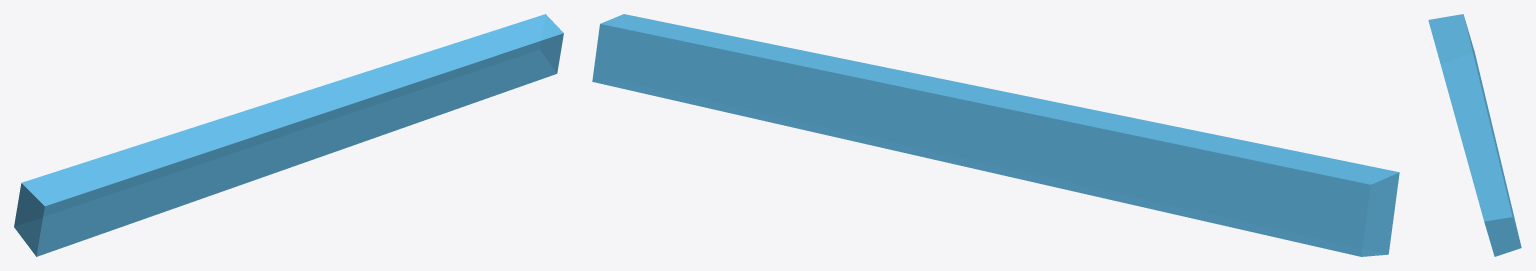
Rendered from Event_421127236_HErechit_5.fbx.
The picture shows the model from 3 angles, left to right: view 1: azimuth 30°, elevation 25°; view 2: azimuth 150°, elevation 25°; view 3: azimuth 270°, elevation 25°; orthographic projection. The views are drawn at different scales.
Parts seen in each view (by area): view 1: Model; view 2: Model; view 3: Model.
Boxes of the visible parts, x1,y1,x2,y2 form: Model: [14, 14, 563, 256]; Model: [592, 14, 1399, 256]; Model: [1428, 14, 1521, 256].
Bounding box in the file's own units: 2.5 × 0.3174 × 0.4676.
